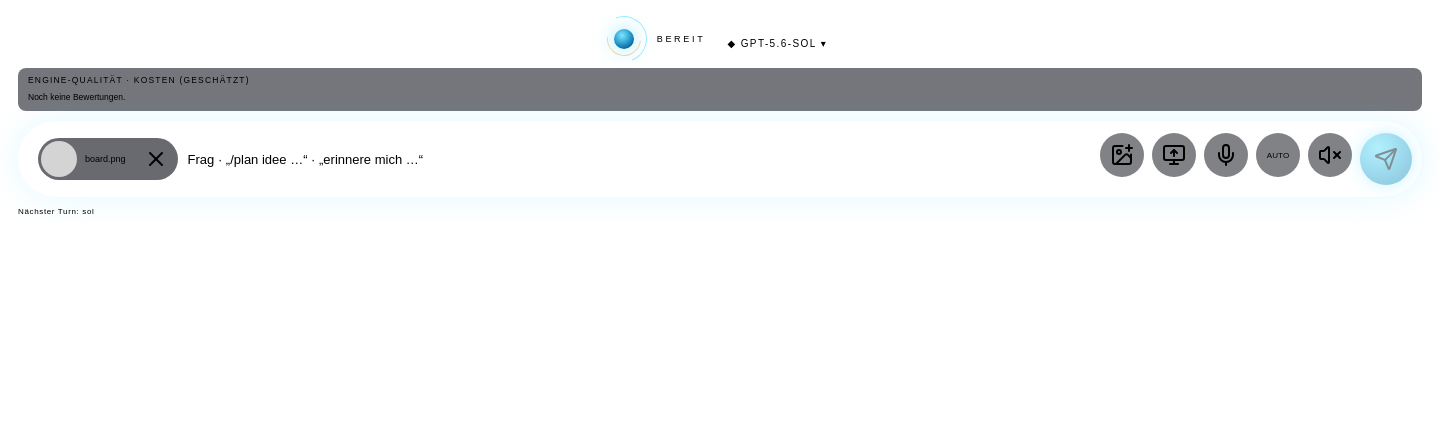
Test: JarvisChat (LIVE-Kontrakt /api/pa/*, Payload-Shapes aus test_pa_chat.py) › Upload-Flow: Paste → upload → attachments im POST-Body (max 1 Bild)
Expected: the text "board.png" is shown, [85, 154, 126, 164]
In the field named "Nachricht an Jarvis": coordinates (639, 159) [188, 137, 1090, 181], type "was ist auf dem Board?"
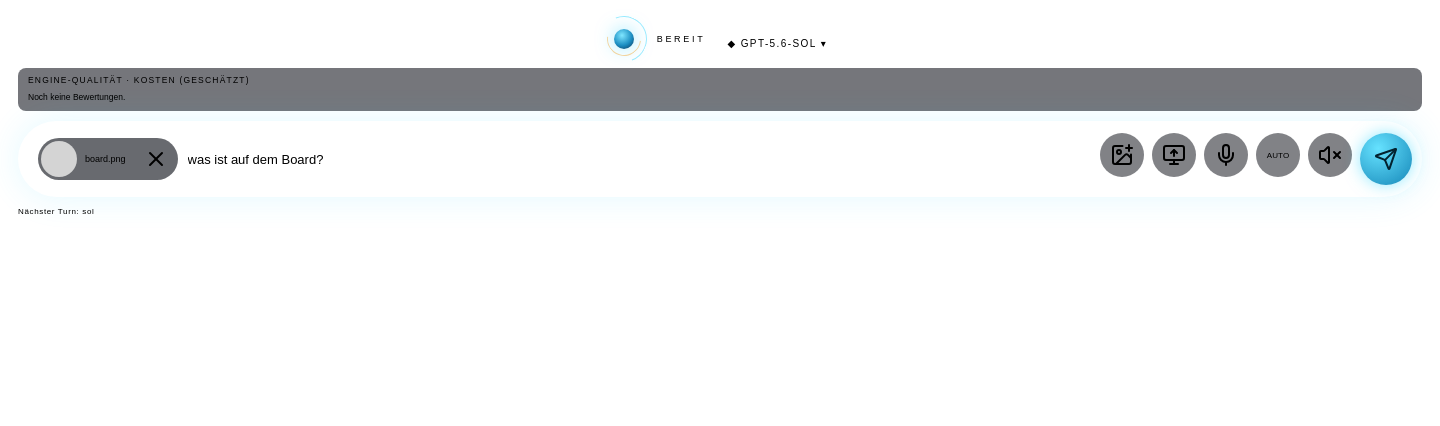
Click the button named "Nachricht senden": coordinates (1386, 159) [1360, 133, 1412, 185]
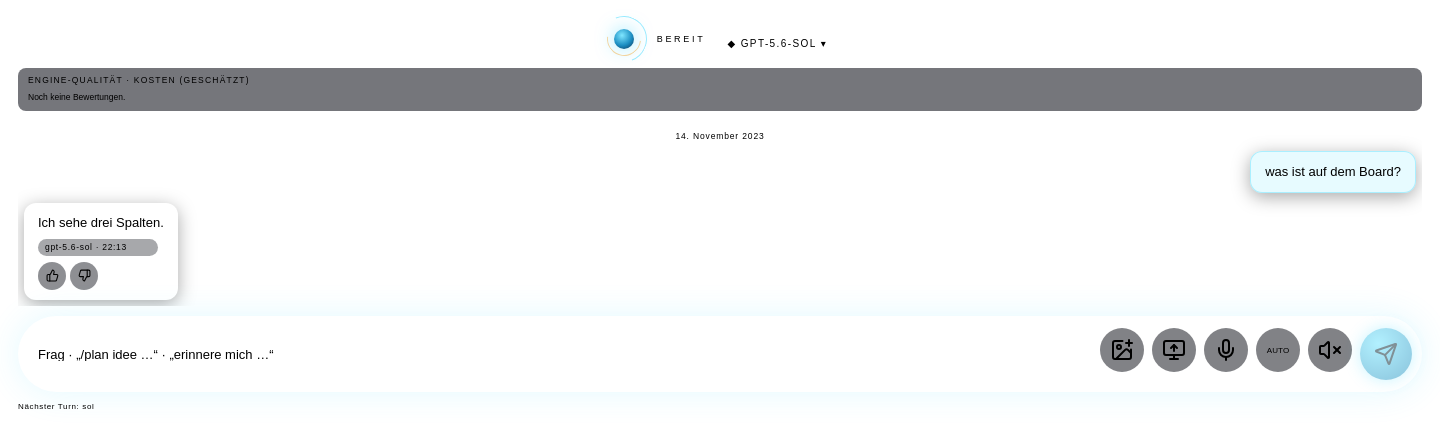
Now the text "Ich sehe drei Spalten." is shown, box [38, 214, 164, 230]
Now the element with class "jv-attachchip" is gone
